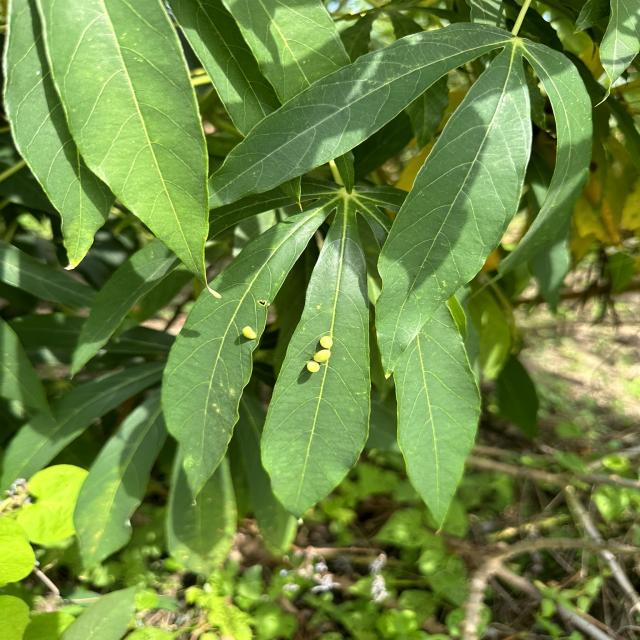Mosca: (299, 323, 338, 381), (235, 315, 259, 350)
